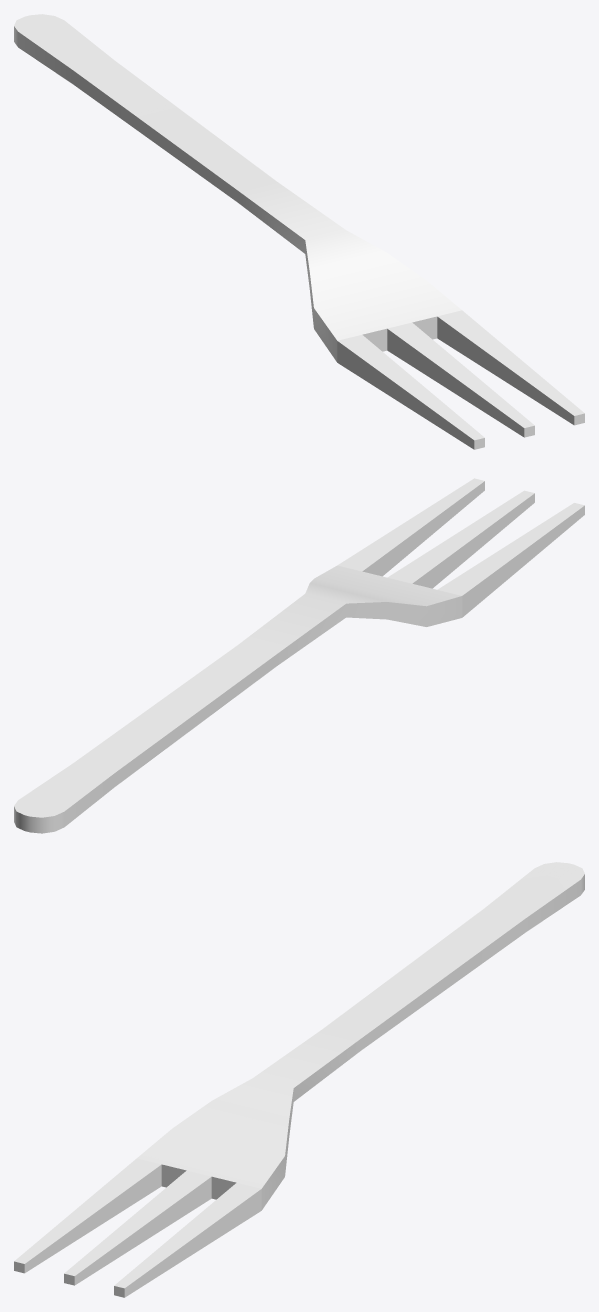
File: Food Fork_1.fbx
The picture shows the model from 3 angles, top to bottom: view 1: azimuth 30°, elevation 25°; view 2: azimuth 150°, elevation 25°; view 3: azimuth 330°, elevation 25°; orthographic projection.
Visible parts, largest first — view 1: Food Fork_1; view 2: Food Fork_1; view 3: Food Fork_1.
Boxes of the visible parts, x1,y1,x2,y2 form: Food Fork_1: [14, 14, 584, 449]; Food Fork_1: [14, 478, 584, 833]; Food Fork_1: [14, 862, 584, 1297].
Size of the model in its own units: 0.0317 by 0.0144 by 0.2209.
